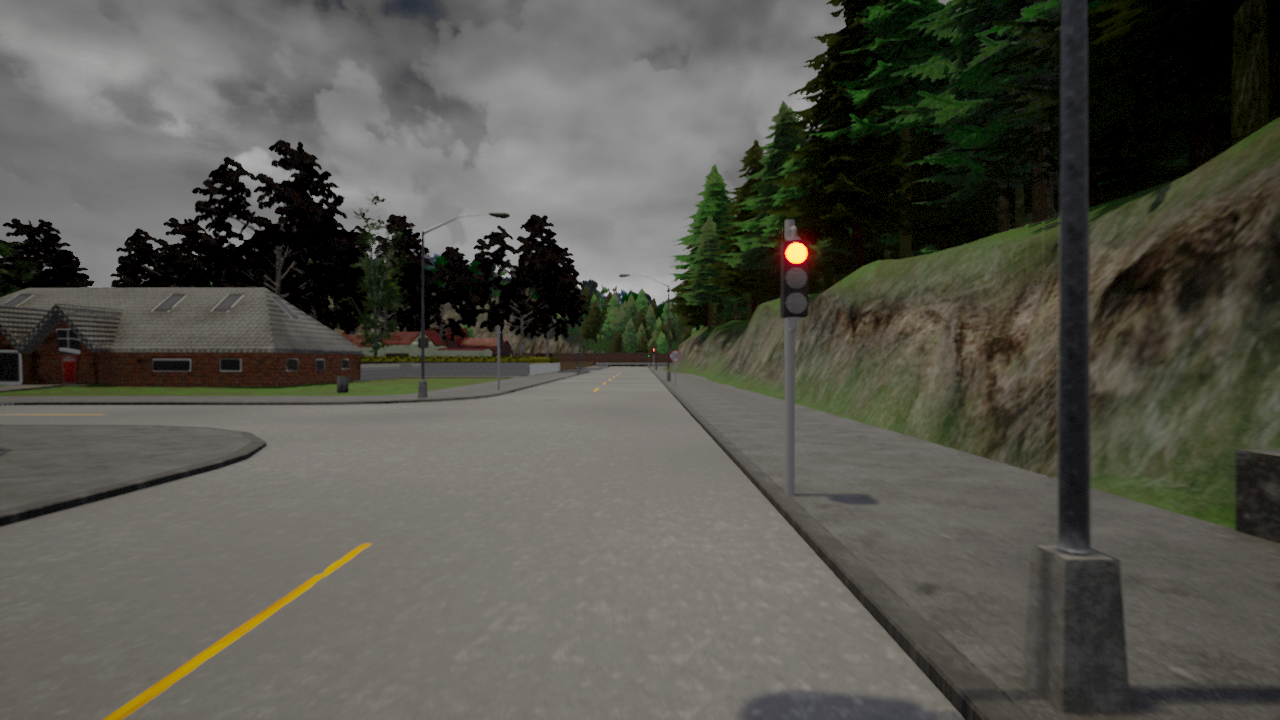red: (775, 236, 815, 323)
